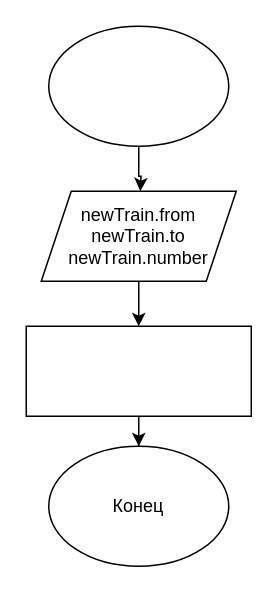
The diagram is 278 pixels wide and 593 high, and some of its shapes have lost their labels. The shapes that lost their labels are listed below. From the top down, each one's centre as x and y in pixels, then its label:
point 138,85: Начало setTrain
point 138,370: newTrain.time = setTime()
